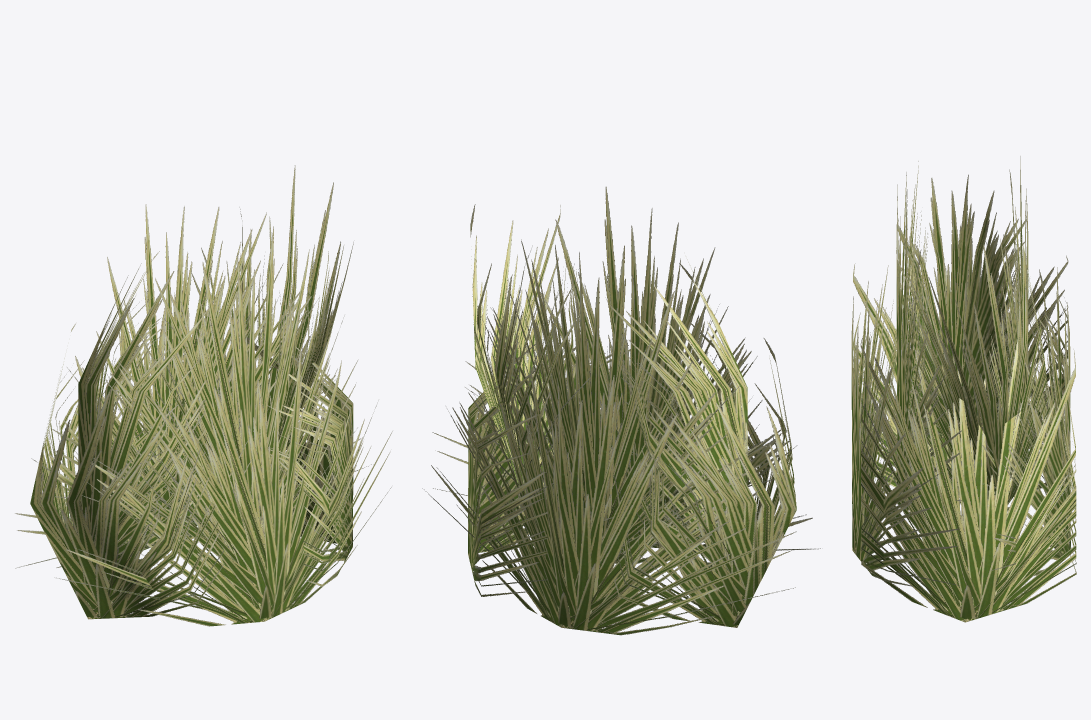
Rendered from flax.fbx.
3 renders of one model, left to right at view 1: azimuth 30°, elevation 25°; view 2: azimuth 150°, elevation 25°; view 3: azimuth 270°, elevation 25°, orthographic. The views are drawn at different scales.
Parts seen in each view (by area): view 1: flax; view 2: flax; view 3: flax.
Boxes of the visible parts, x1=… form: flax: x1=15, y1=165, x2=392, y2=626; flax: x1=422, y1=186, x2=820, y2=635; flax: x1=851, y1=156, x2=1076, y2=622.
Bounding box in the file's own units: 1.02 × 1.63 × 0.5228.
